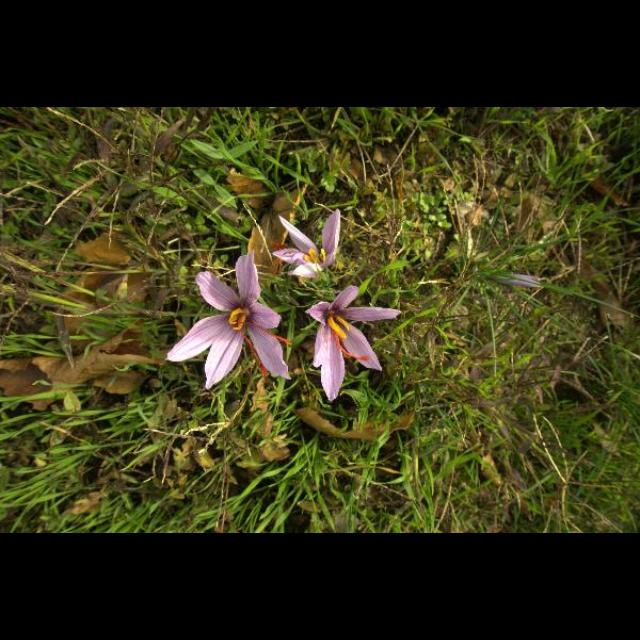flower: (166, 251, 294, 391), (304, 286, 404, 402), (271, 209, 341, 279)
